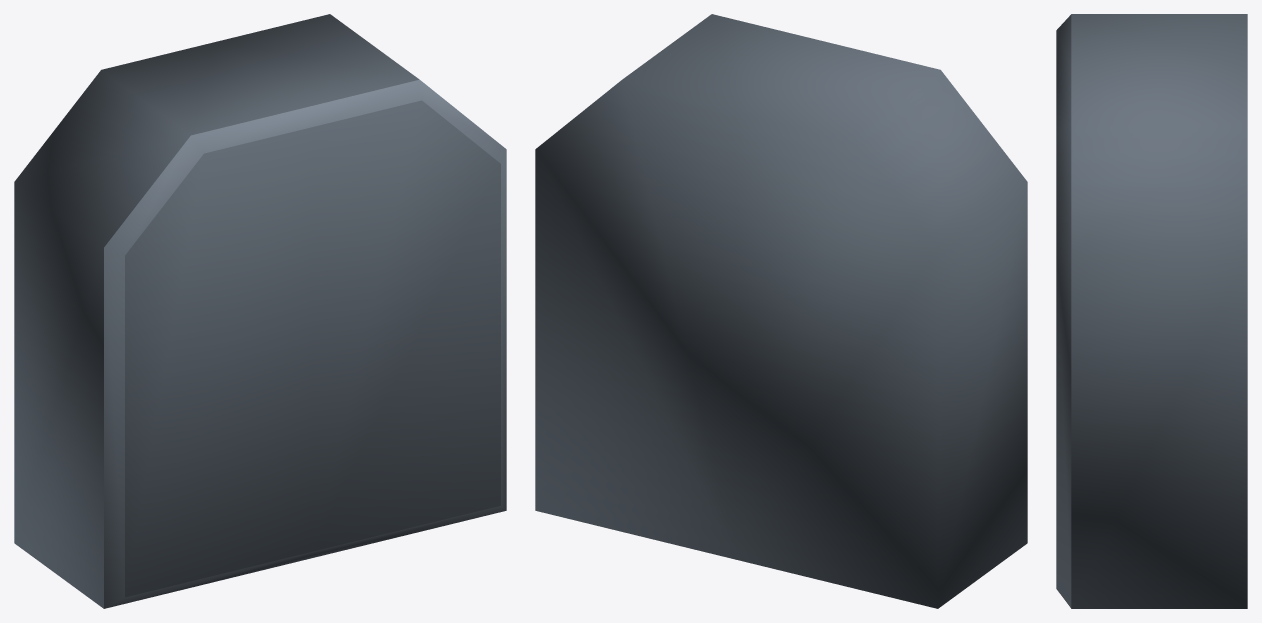
The model's file is Gstone.fbx.
3 renders of one model, left to right at view 1: azimuth 30°, elevation 25°; view 2: azimuth 150°, elevation 25°; view 3: azimuth 270°, elevation 25°, orthographic.
Visible parts, largest first — view 1: gstone; view 2: gstone; view 3: gstone.
Boxes of the visible parts, x1=… form: gstone: x1=14, y1=14, x2=506, y2=608; gstone: x1=535, y1=14, x2=1027, y2=608; gstone: x1=1056, y1=14, x2=1247, y2=608.
Size of the model in its own units: 0.7688 by 0.8252 by 0.3219.
